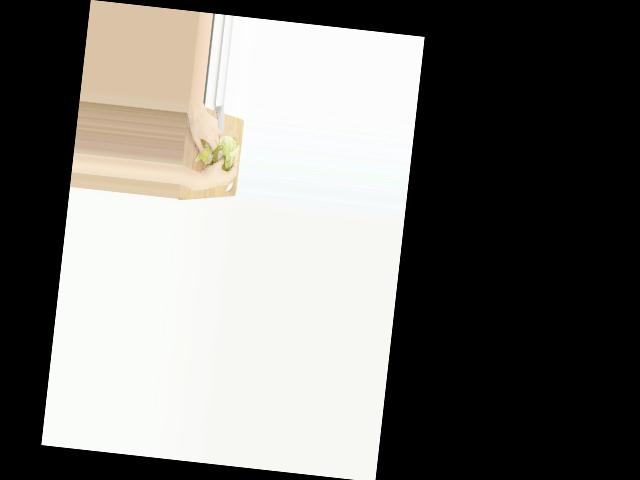lettuce: (213, 134, 239, 169)
